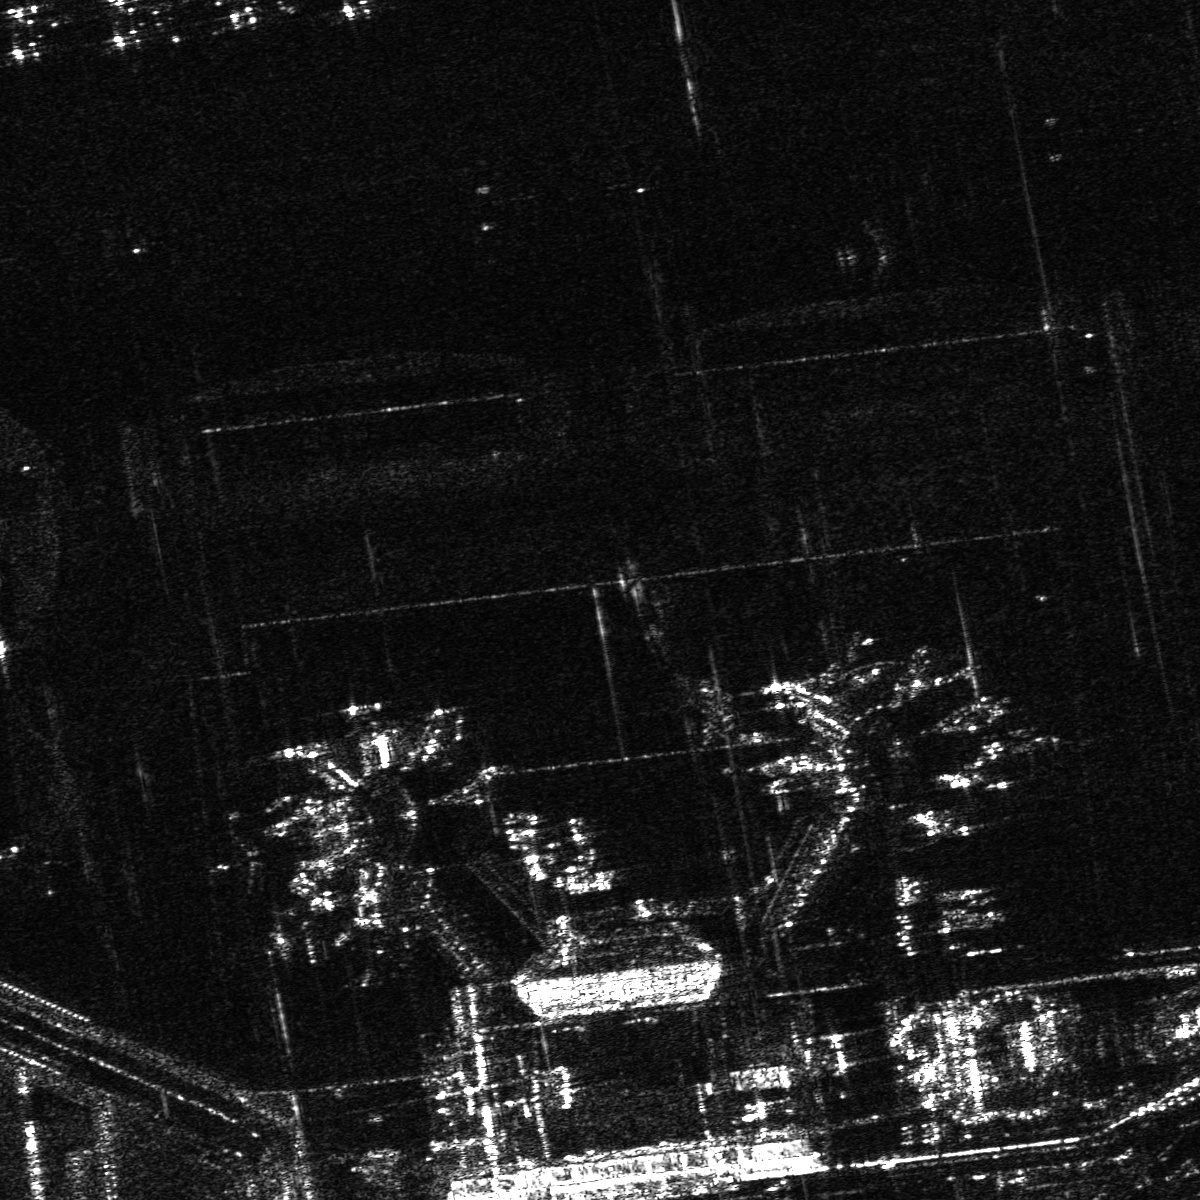A220: (204, 822, 274, 901)
